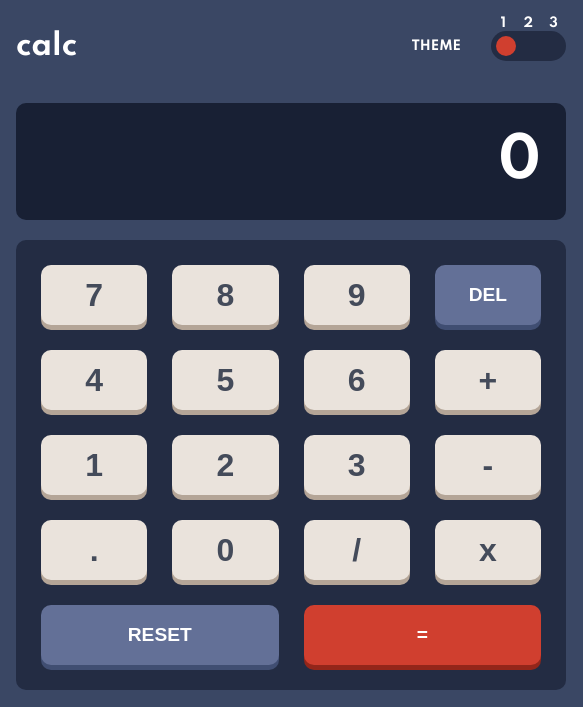
it: Simple App integration tests › Single operation tests › 5 * 6 = 30
This screenshot has width=583, height=707.
Click the button "5" at (225, 380), box [172,350,279,410]
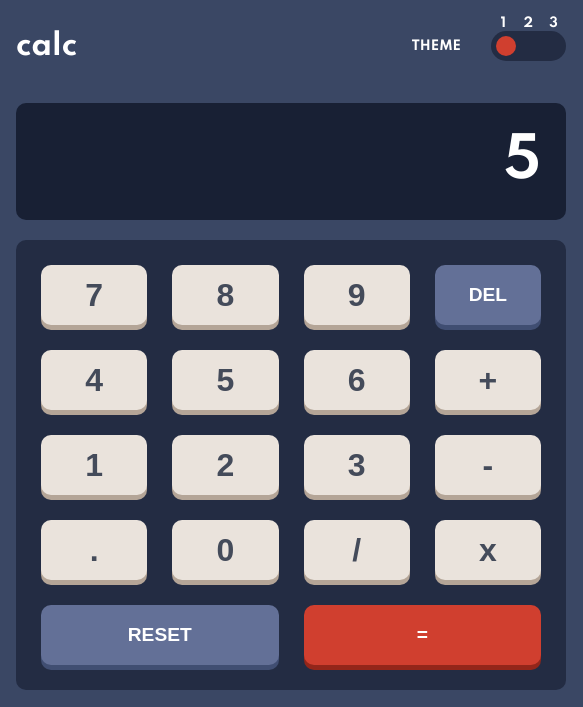
Expected: the text "5" is shown, [504,129,541,194]
Click the button with id "multiply" at (488, 550), box [435,520,541,580]
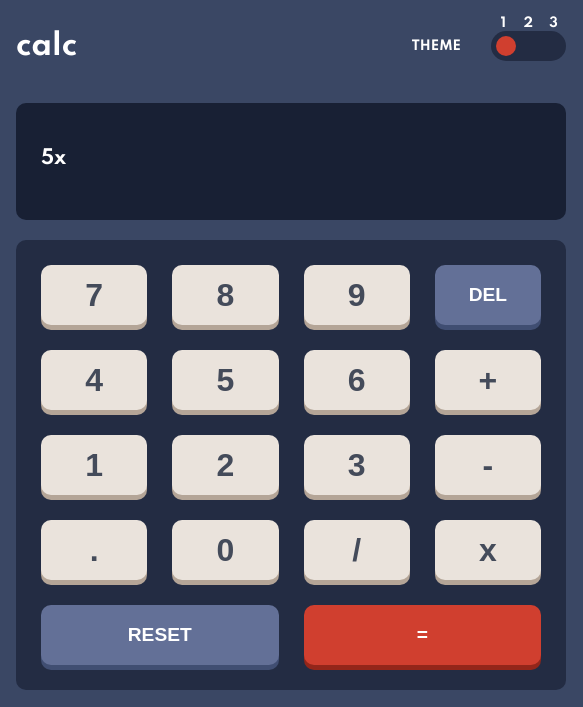
Click the button "6" at (357, 380), box [304,350,410,410]
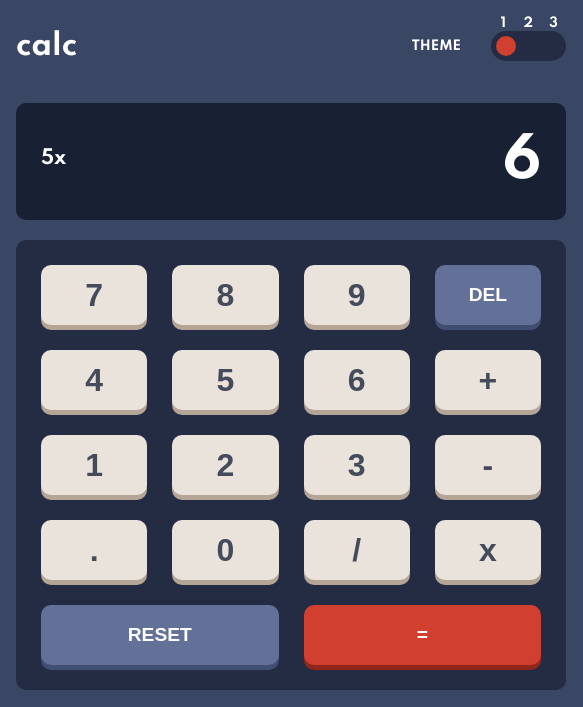
Expected: the text "6" is shown, [503,129,541,194]
Click the button with id "equals" at (422, 635), box [304,605,541,665]
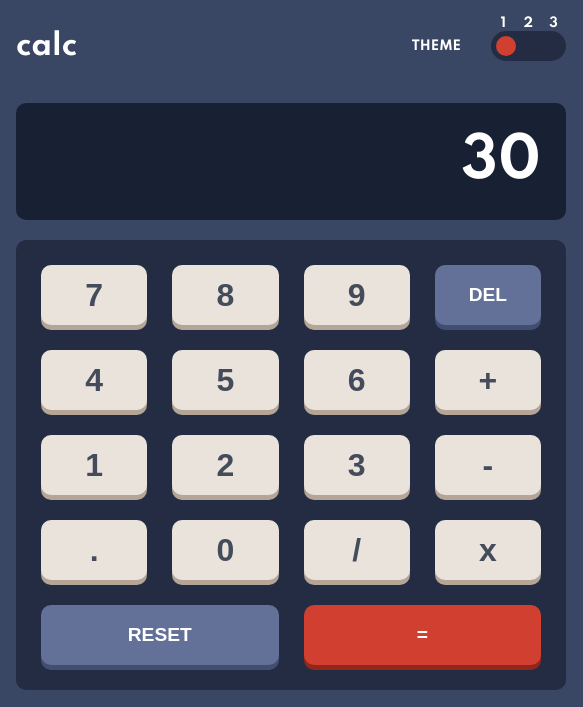
Expected: the text "30" is shown, [461,129,541,194]
